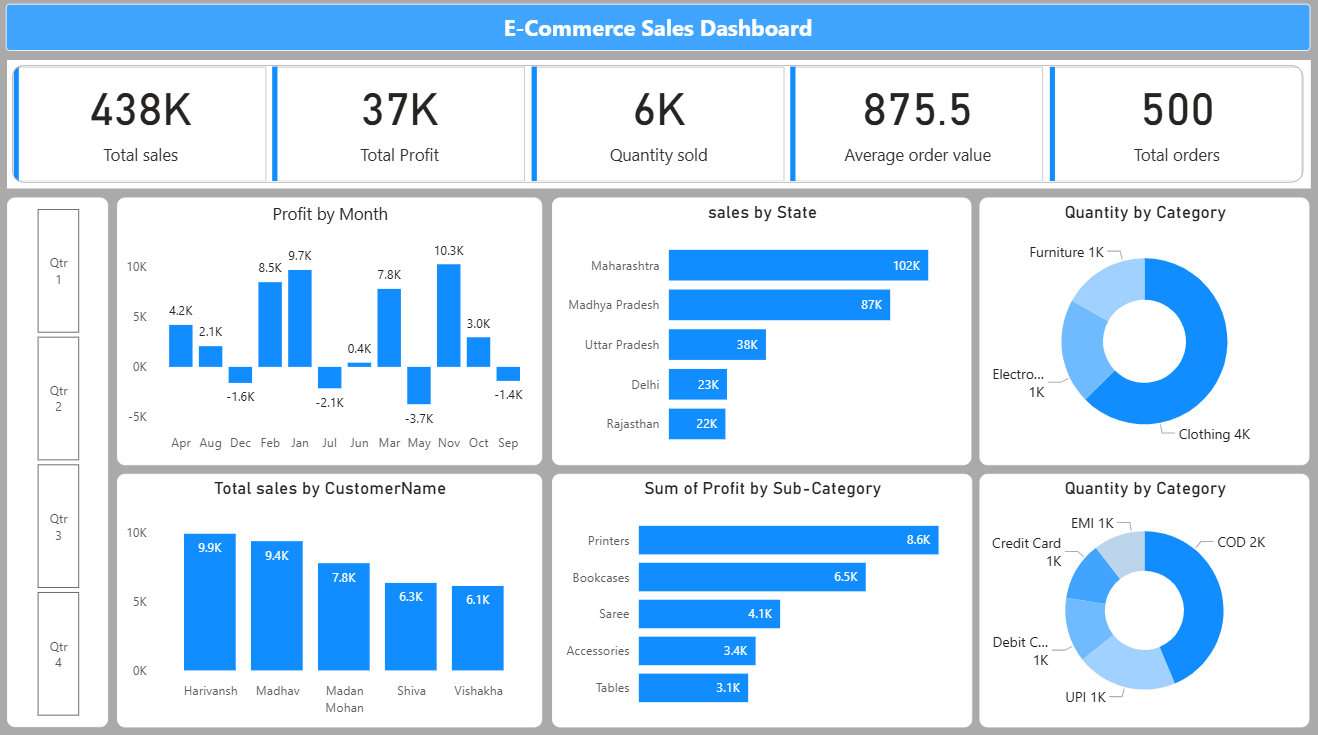

The page's visual inventory and layout, read from the dashboard file:
{"tool":"powerbi","page":{"name":"Dashboard","canvas":[1280,720],"ordinal":0},"visuals":[{"type":"cardVisual","fields":{"Data":["Details.Total sales","Details.Total Profit","Details.Quantity sold","Details.Average order value","Details.Total orders"]},"box":[10,62.5,1258.8,123.8],"z":0},{"type":"textbox","box":[8.8,8.8,1258.8,45],"z":1000},{"type":"columnChart","title":" Profit by Month","fields":{"Y":["Sum(Details.Profit)"],"Category":["Orders.month start"]},"box":[116.2,195,410,258.8],"z":2000},{"type":"clusteredBarChart","title":"sales by State","fields":{"Category":["Orders.State"],"Y":["Details.Total sales"]},"box":[536.2,195,405,258.8],"z":3000},{"type":"donutChart","title":"Quantity  by Category","fields":{"Y":["Details.Quantity sold"],"Category":["Details.Category"]},"box":[948.8,195,318.8,258.8],"z":4000},{"type":"donutChart","title":"Quantity  by Category","fields":{"Y":["Details.Quantity sold"],"Category":["Details.PaymentMode"]},"box":[948.8,462.5,318.8,245],"z":5000},{"type":"columnChart","fields":{"Y":["Details.Total sales"],"Category":["Orders.CustomerName"]},"box":[116.2,462.5,410,245],"z":6000},{"type":"clusteredBarChart","fields":{"Y":["Sum(Details.Profit)"],"Category":["Details.Sub-Category"]},"box":[537.5,462.5,403.8,245],"z":7000},{"type":"slicer","fields":{"Values":["Orders.Order Date.Variation.Date Hierarchy.Quarter"]},"box":[10,195,97.5,512.5],"z":8000}]}

Visuals, with their boxes in screenshot pixels (x1, y1, x2, y2), scaled from the page's 1280x720 canvas onto the 1318x735 screenshot:
cardVisual - Details.Total sales x Details.Total Profit: Rect(10, 64, 1306, 190)
textbox: Rect(9, 9, 1305, 55)
" Profit by Month" columnChart: Rect(120, 199, 542, 463)
"sales by State" clusteredBarChart: Rect(552, 199, 969, 463)
"Quantity  by Category" donutChart: Rect(977, 199, 1305, 463)
"Quantity  by Category" donutChart: Rect(977, 472, 1305, 722)
columnChart - Details.Total sales x Orders.CustomerName: Rect(120, 472, 542, 722)
clusteredBarChart - Sum(Details.Profit) x Details.Sub-Category: Rect(553, 472, 969, 722)
slicer - Orders.Order Date.Variation.Date Hierarchy.Quarter: Rect(10, 199, 111, 722)
